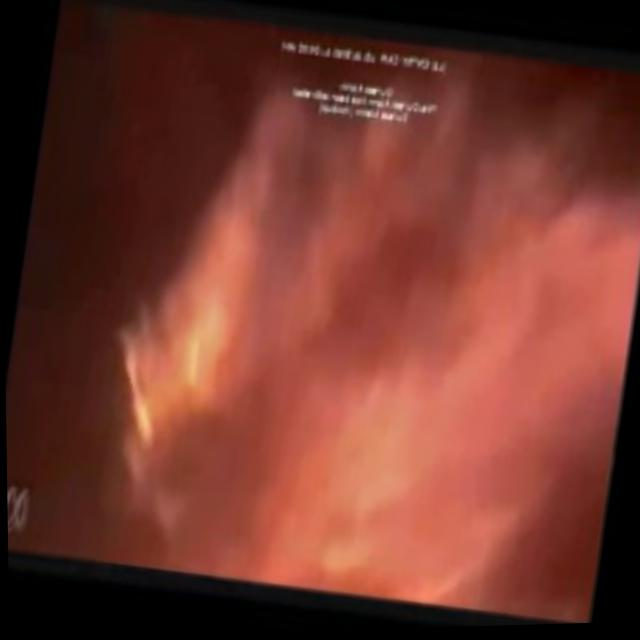fire: (178, 215, 256, 422), (102, 313, 183, 448), (318, 539, 374, 579)
